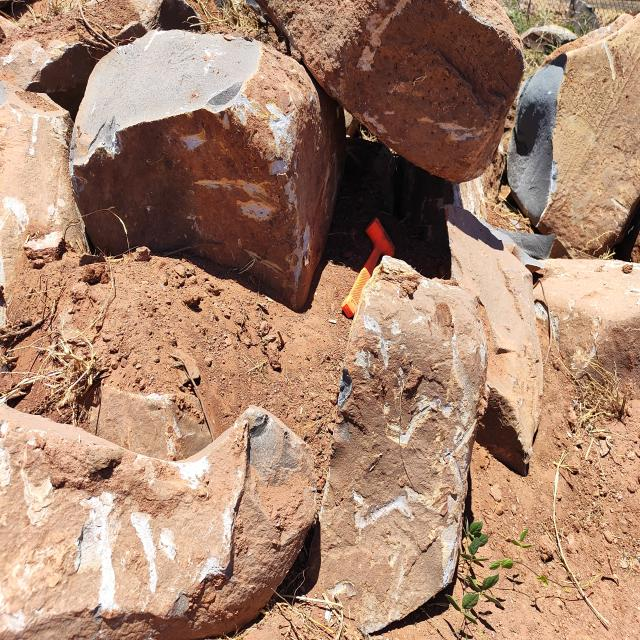Orange_hammer: (341, 216, 395, 320)
